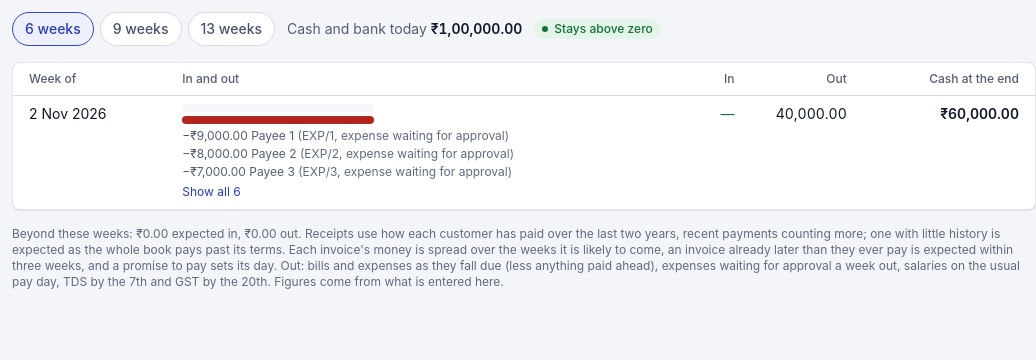
Test: accounts, wave 1 › a forecast week shows its three biggest, and all of them on asking
Expected: the text "(EXP/1, expense waiting for approval)" is shown 3 times, [298,128,509,143]; [300,146,514,161]; [298,164,512,179]
Click the button "Show all 6".
click(211, 192)  # box [182,184,241,200]
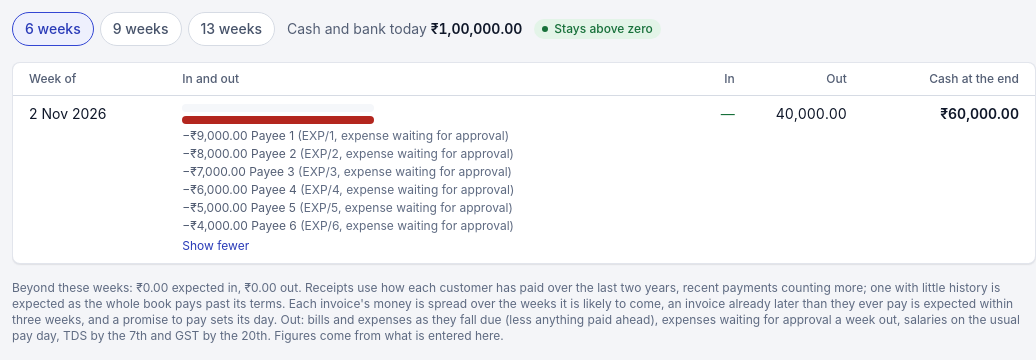
Expected: the text "(EXP/1, expense waiting for approval)" is shown 6 times, [297,128,509,143]; [300,146,514,161]; [298,164,512,179]; [300,182,514,197]; [299,200,513,215]; [300,218,514,233]
Expected: the list item "−₹4,000.00 Payee 6 (EXP/6, expense waiting for approval)" is shown, [182,218,514,233]
